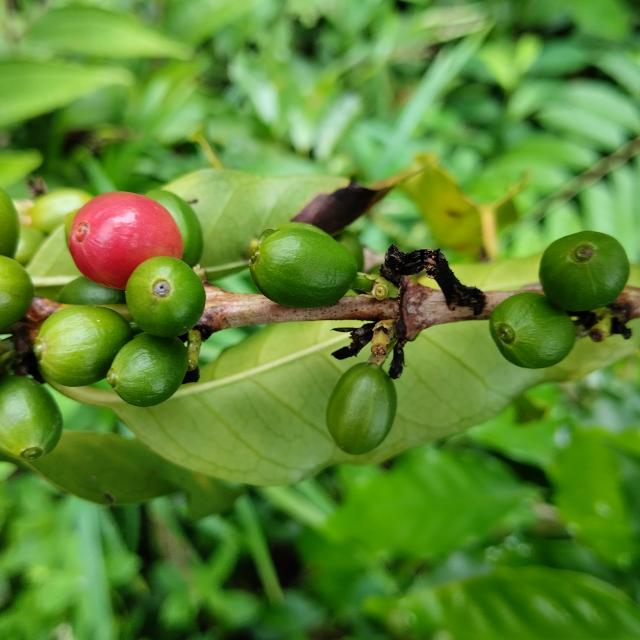green: (249, 228, 358, 308), (33, 305, 132, 387), (540, 231, 631, 311), (490, 292, 577, 369), (124, 256, 205, 338), (326, 363, 397, 455), (106, 333, 188, 407), (0, 375, 62, 461), (145, 189, 203, 267), (0, 255, 34, 330), (57, 276, 125, 305), (0, 187, 19, 258), (335, 231, 364, 271), (276, 222, 330, 236)
red: (67, 191, 183, 289)
